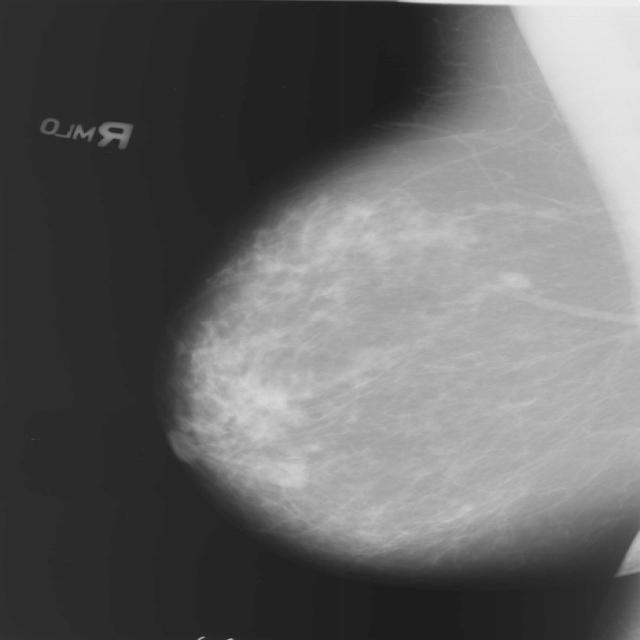tumour: (497, 270, 532, 288)
